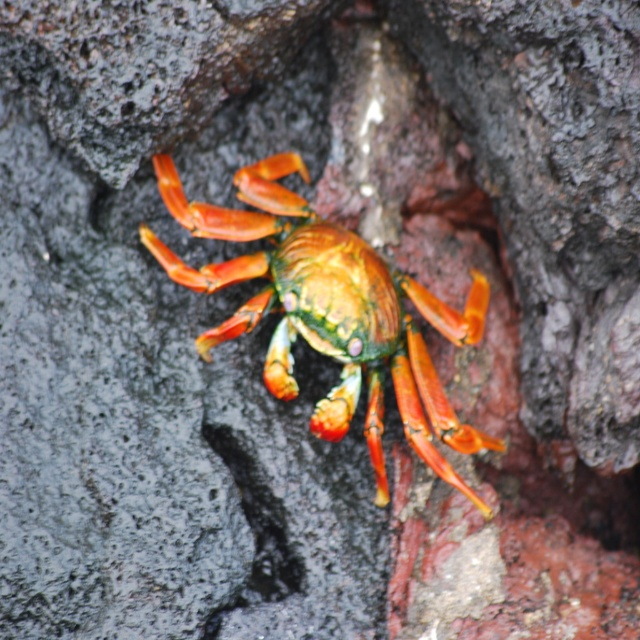Crab: (139, 151, 505, 521)
